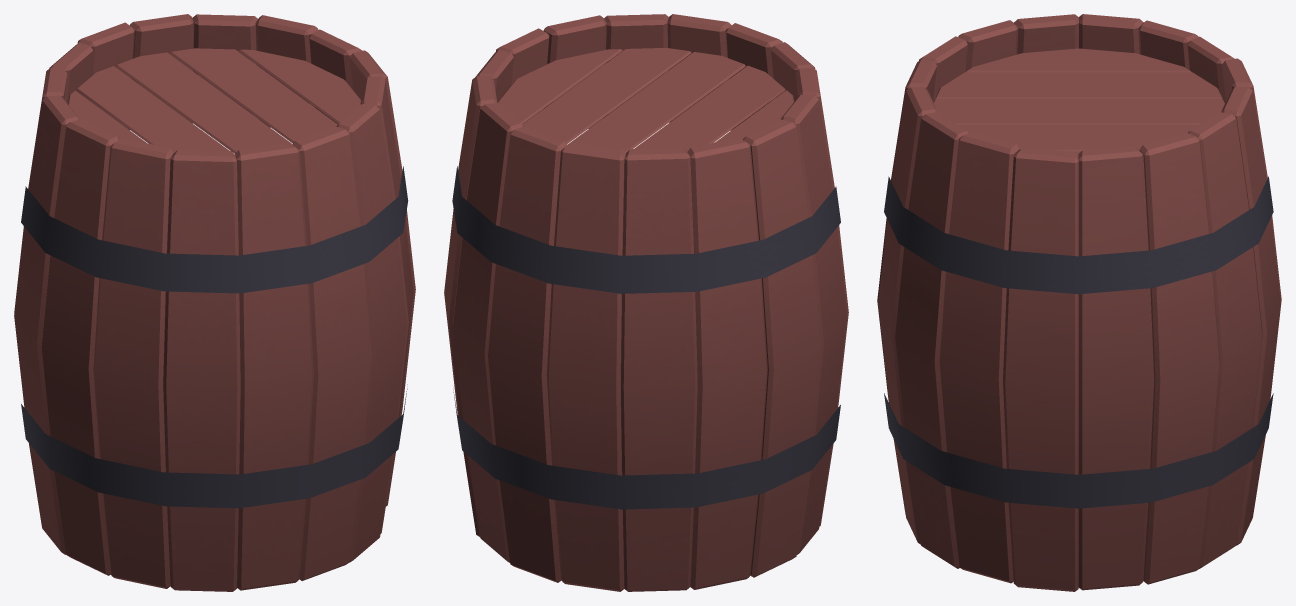
The model's file is barrel-01.glb.
The picture shows the model from 3 angles, left to right: view 1: azimuth 30°, elevation 25°; view 2: azimuth 150°, elevation 25°; view 3: azimuth 270°, elevation 25°; orthographic projection.
Visible parts, largest first — view 1: Barrel 01; view 2: Barrel 01; view 3: Barrel 01.
Part boxes in pixels (bbox=[...]): Barrel 01: bbox=[14, 14, 415, 591]; Barrel 01: bbox=[444, 14, 848, 591]; Barrel 01: bbox=[877, 14, 1281, 591].
Bounding box in the file's own units: 0.6214 × 0.7367 × 0.6195.
Materials: 1 (1 with a texture image).
